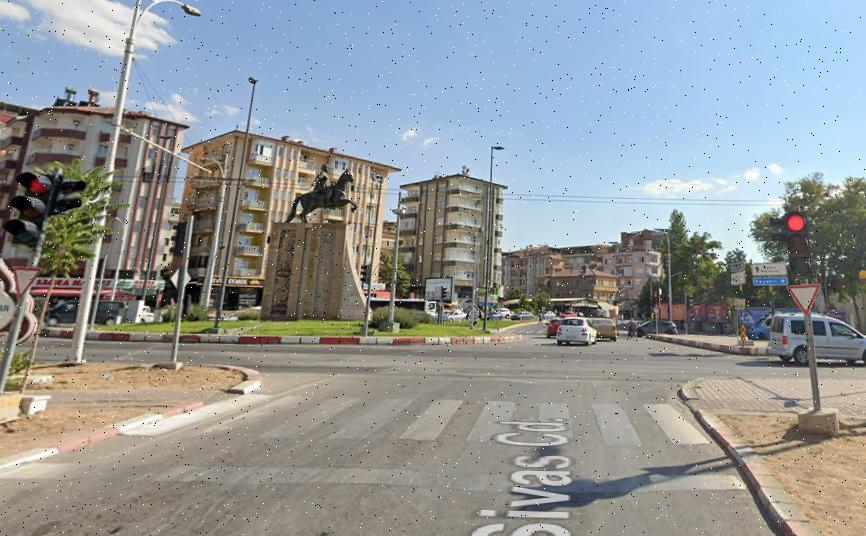redlight: (9, 162, 47, 254), (784, 213, 814, 282)
